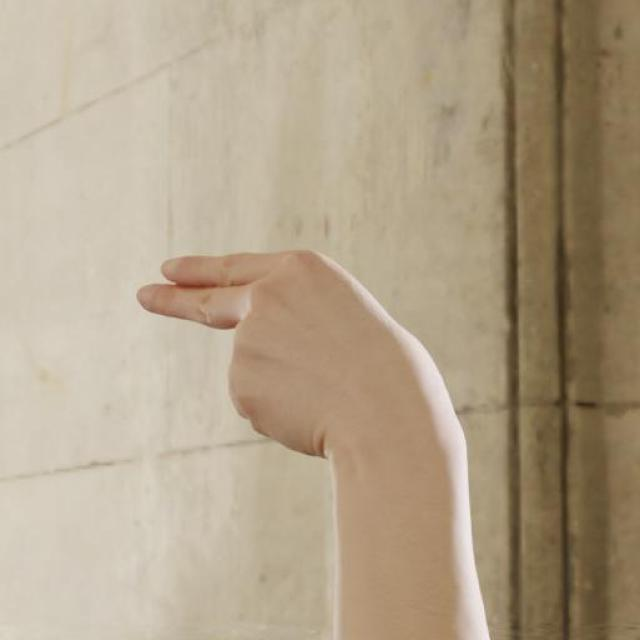H: (130, 242, 453, 456)
